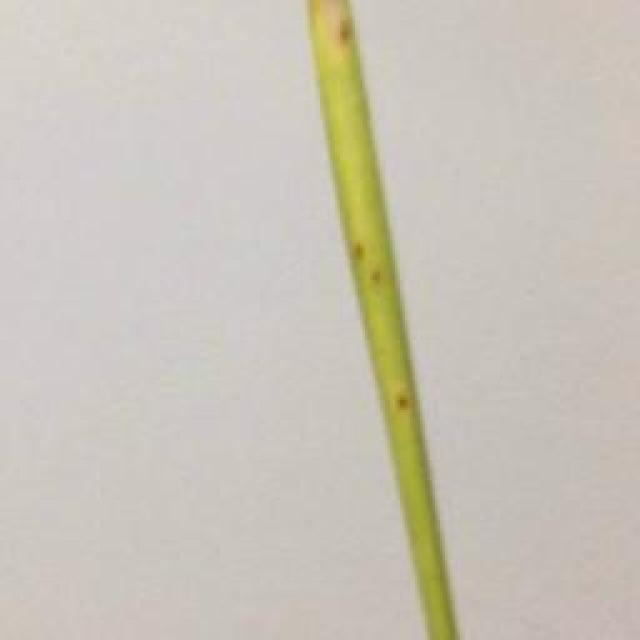Bacterial_Blight: (300, 0, 398, 93)
Brown_Spot: (337, 233, 381, 265), (396, 381, 416, 416), (366, 265, 387, 292)
